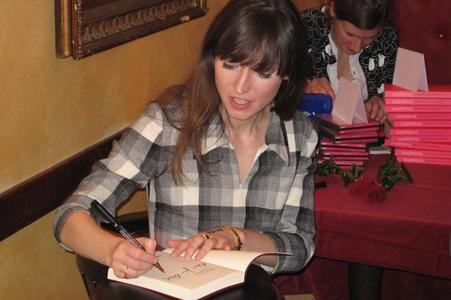person: (54, 3, 320, 277)
